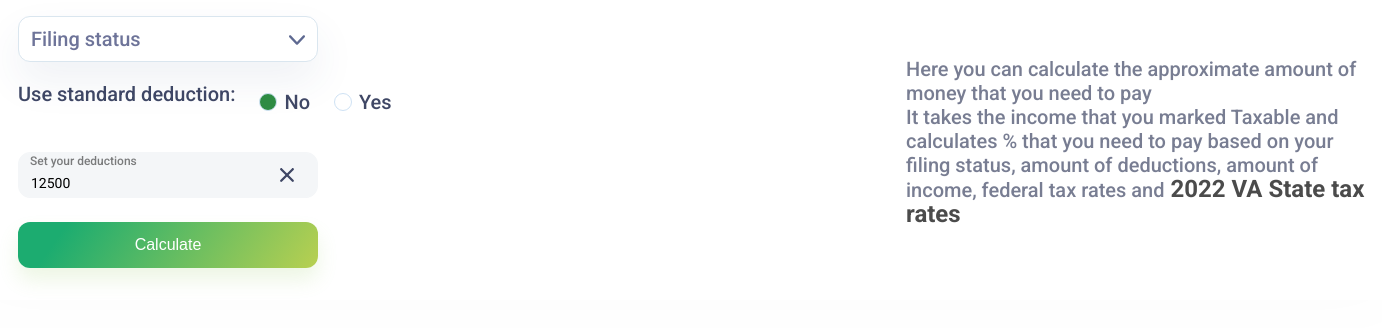
Test: TaxForm › displays an error message when no filing status is selected
Click the button with test id "btn-tax-calc-test": coordinates (168, 245) 18,222 -> 318,268
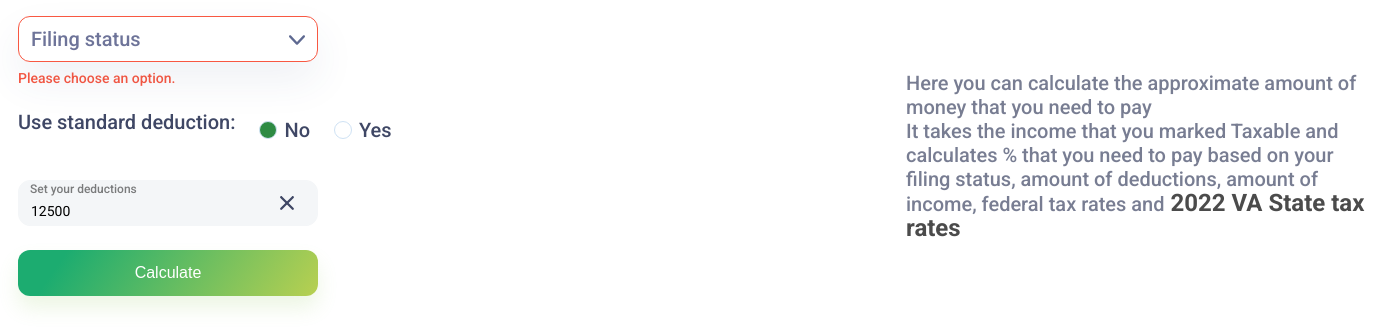
Check: the text "Please choose an option." is shown, box 18,70 -> 175,86
